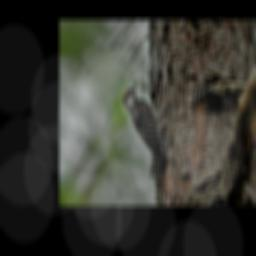Woodpecker: (123, 76, 169, 175)
